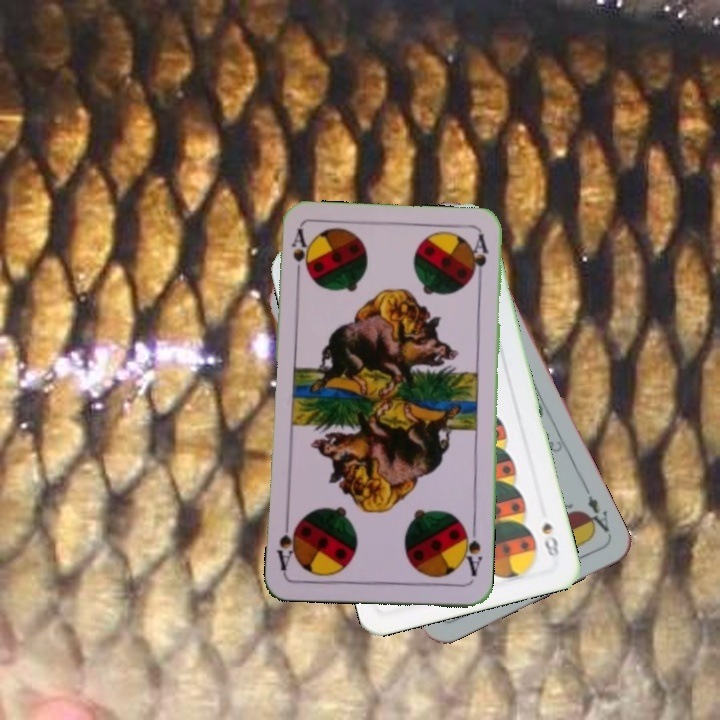EA: (579, 491, 612, 536)
S8: (538, 518, 562, 559)
SA: (458, 522, 485, 579), (288, 225, 312, 284)
